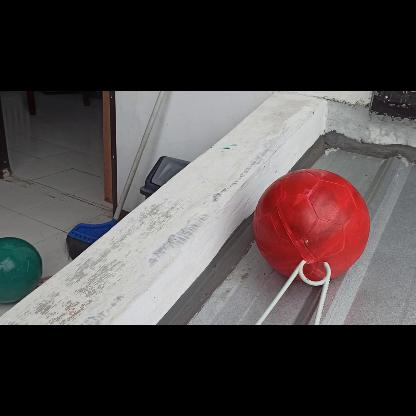red_ball: (254, 166, 370, 282)
